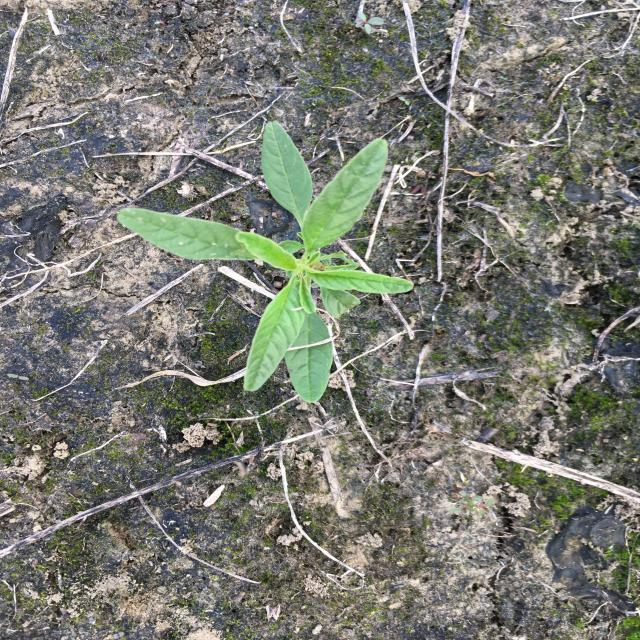Waterhemp: (114, 119, 417, 407)
